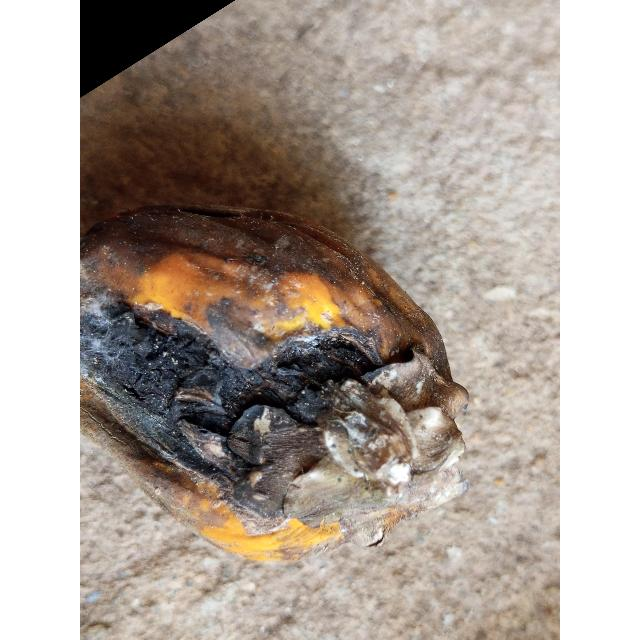damaged: (80, 206, 469, 567)
